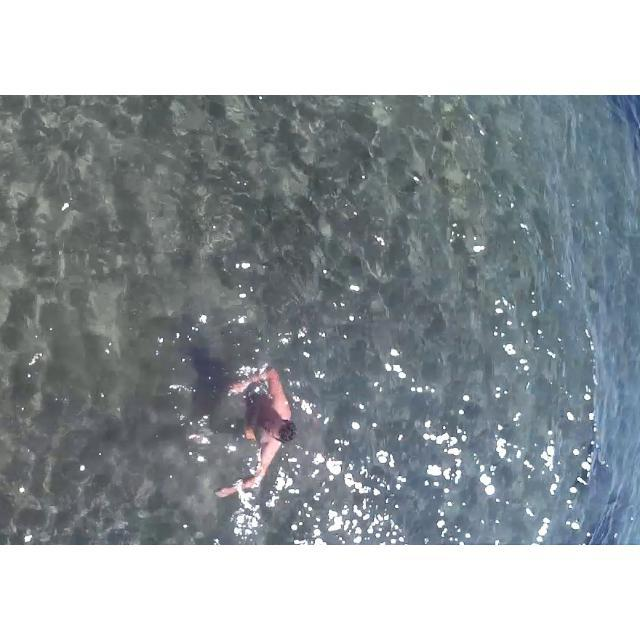human: (221, 350, 302, 513)
